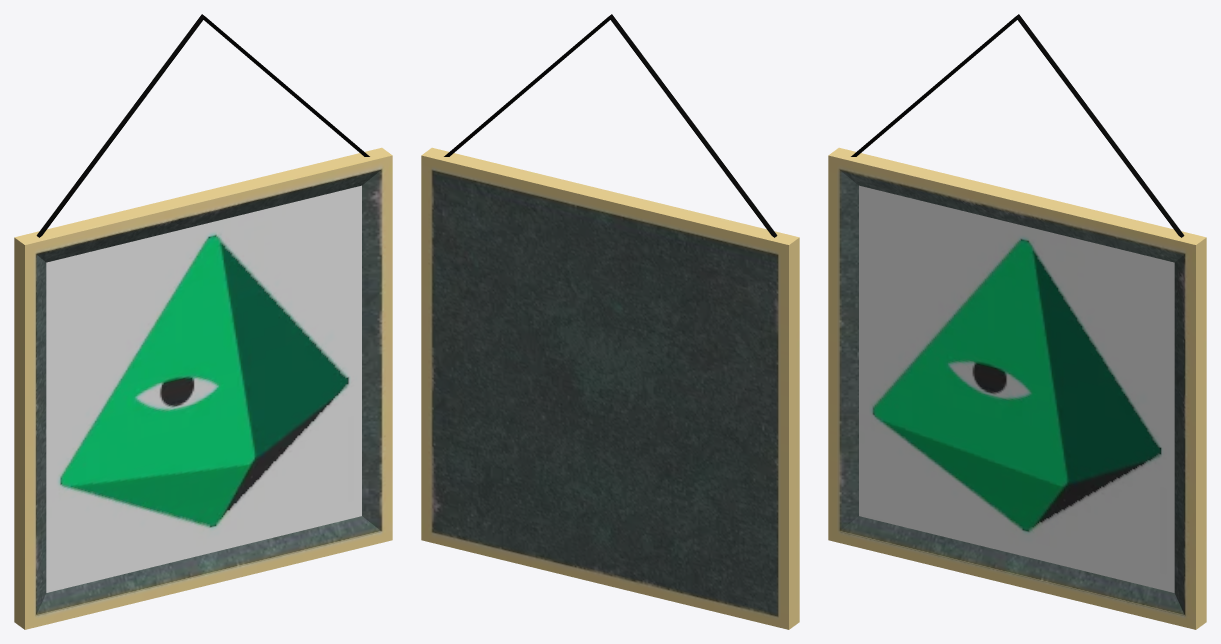
Rendered from pm-links-frames-big-polygonal-mind.glb.
3 views of the same model, side by side, from view 1: azimuth 30°, elevation 25°; view 2: azimuth 150°, elevation 25°; view 3: azimuth 330°, elevation 25° (orthographic).
Parts seen in each view (by area): view 1: Links_Frames_Big_PolygonalMind; view 2: Links_Frames_Big_PolygonalMind; view 3: Links_Frames_Big_PolygonalMind.
Part boxes in pixels (box(x1,y1,x2,y2)): Links_Frames_Big_PolygonalMind: box(14, 14, 392, 629); Links_Frames_Big_PolygonalMind: box(421, 14, 799, 629); Links_Frames_Big_PolygonalMind: box(828, 14, 1206, 629).
Size of the model in its own units: 2 by 2.94 by 0.1006.
Materials: 2 (2 with a texture image).
